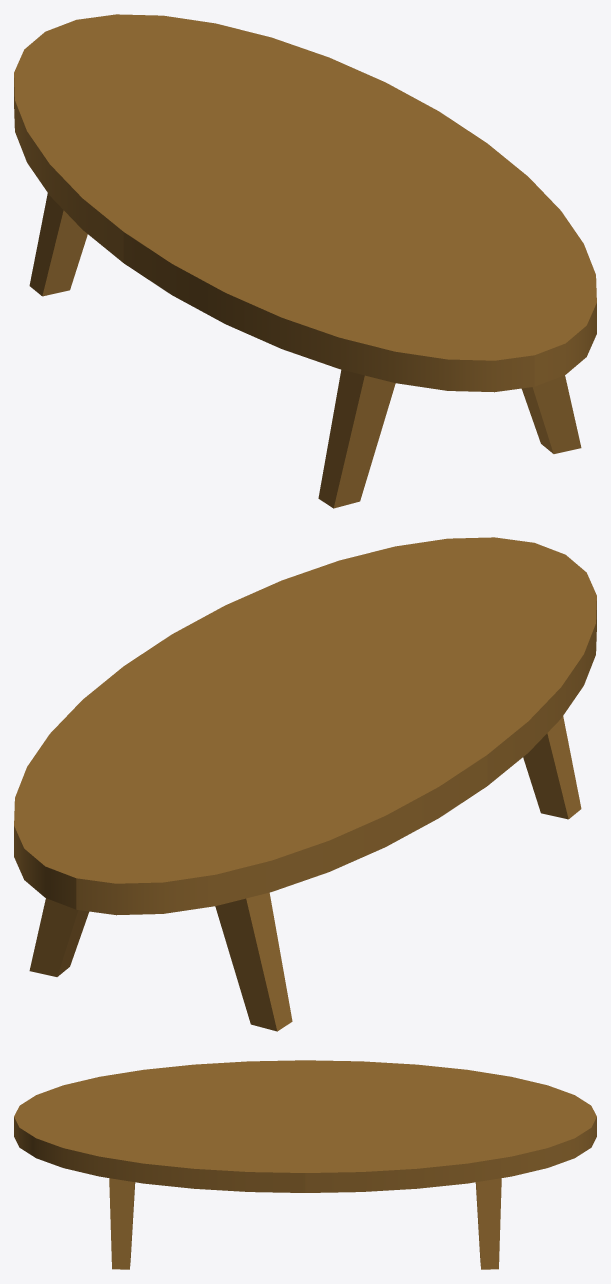
Rendered from mesinha_de_centro.fbx.
The picture shows the model from 3 angles, top to bottom: view 1: azimuth 30°, elevation 25°; view 2: azimuth 150°, elevation 25°; view 3: azimuth 270°, elevation 25°; orthographic projection. The views are drawn at different scales.
Visible parts, largest first — view 1: Cylinder; view 2: Cylinder; view 3: Cylinder.
Boxes of the visible parts, x1=… form: Cylinder: x1=14, y1=14, x2=596, y2=508; Cylinder: x1=14, y1=537, x2=596, y2=1031; Cylinder: x1=14, y1=1060, x2=596, y2=1269.
Bounding box in the file's own units: 200 × 94.36 × 437.
